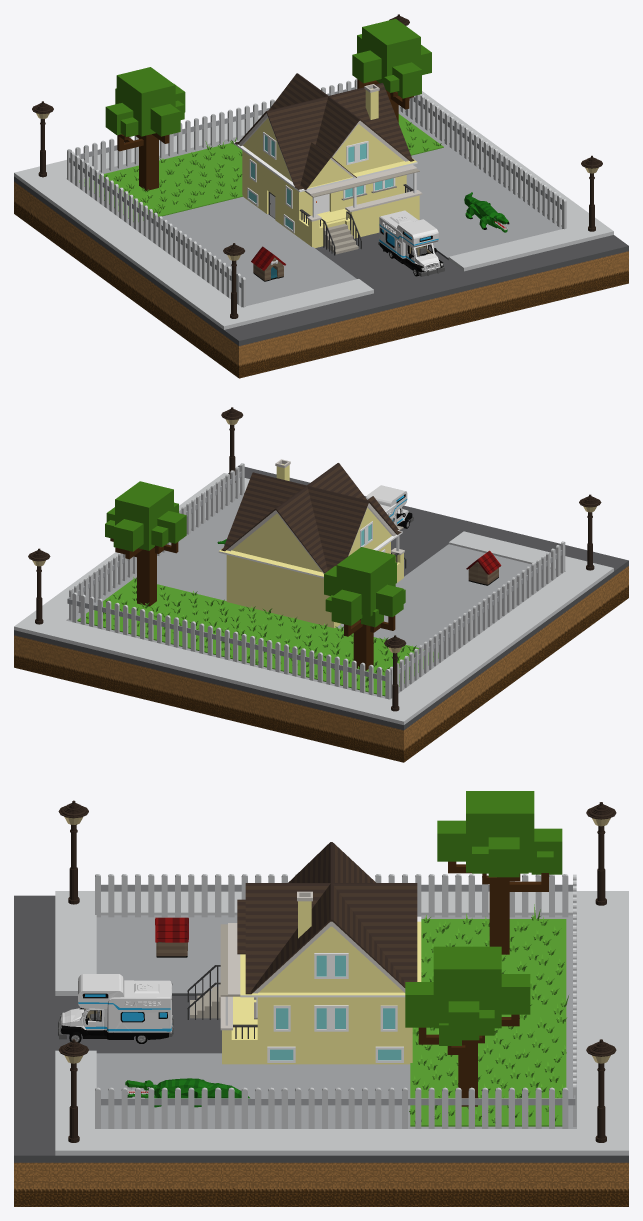
3 views of the same model, one above another, from view 1: azimuth 30°, elevation 25°; view 2: azimuth 150°, elevation 25°; view 3: azimuth 270°, elevation 25° (orthographic). The views are drawn at different scales.
Visible parts, largest first — view 1: Cube.004, Cube.1555, VEHICLES_CAMPER, ANIMAL_COCODRILO, OBJRANDOM_DOGHOUSE; view 2: Cube.004, Cube.1555, VEHICLES_CAMPER, OBJRANDOM_DOGHOUSE; view 3: Cube.004, Cube.1555, VEHICLES_CAMPER, ANIMAL_COCODRILO, OBJRANDOM_DOGHOUSE.
Boxes of the visible parts, box(x1,y1,x2,y2) form: Cube.004: box(14, 14, 628, 378); Cube.1555: box(233, 73, 422, 255); VEHICLES_CAMPER: box(378, 210, 444, 276); ANIMAL_COCODRILO: box(464, 192, 509, 232); OBJRANDOM_DOGHOUSE: box(251, 246, 285, 281); Cube.004: box(14, 407, 628, 762); Cube.1555: box(218, 459, 406, 627); VEHICLES_CAMPER: box(366, 485, 413, 528); OBJRANDOM_DOGHOUSE: box(466, 550, 501, 585); Cube.004: box(14, 791, 628, 1206); Cube.1555: box(187, 842, 421, 1064); VEHICLES_CAMPER: box(58, 974, 173, 1043); ANIMAL_COCODRILO: box(125, 1078, 249, 1107); OBJRANDOM_DOGHOUSE: box(155, 917, 188, 957).
Bounding box in the file's own units: 4000 × 1603 × 4000.
40 materials, 3 textured.
